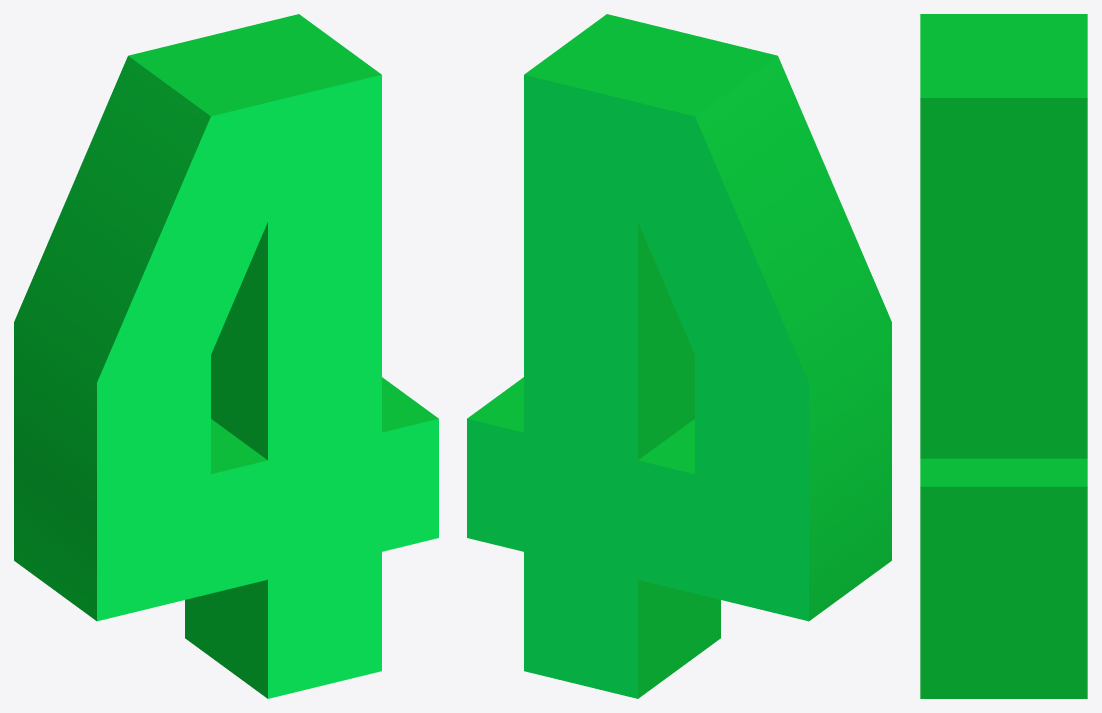
The picture shows the model from 3 angles, left to right: view 1: azimuth 30°, elevation 25°; view 2: azimuth 150°, elevation 25°; view 3: azimuth 270°, elevation 25°; orthographic projection.
Visible parts, largest first — view 1: 4_DeltaBlock_Green; view 2: 4_DeltaBlock_Green; view 3: 4_DeltaBlock_Green.
Boxes of the visible parts, x1=… form: 4_DeltaBlock_Green: x1=14, y1=14, x2=438, y2=698; 4_DeltaBlock_Green: x1=467, y1=14, x2=891, y2=698; 4_DeltaBlock_Green: x1=920, y1=14, x2=1087, y2=698.
Size of what is drawn, in the model's own units: 0.1071 by 0.1786 by 0.045.
Materials: 2 (2 with a texture image).
